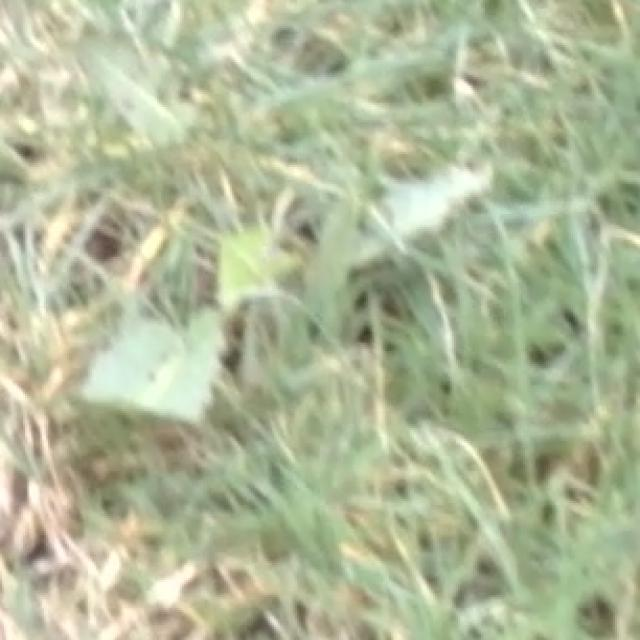organic waste: (51, 138, 568, 460)
